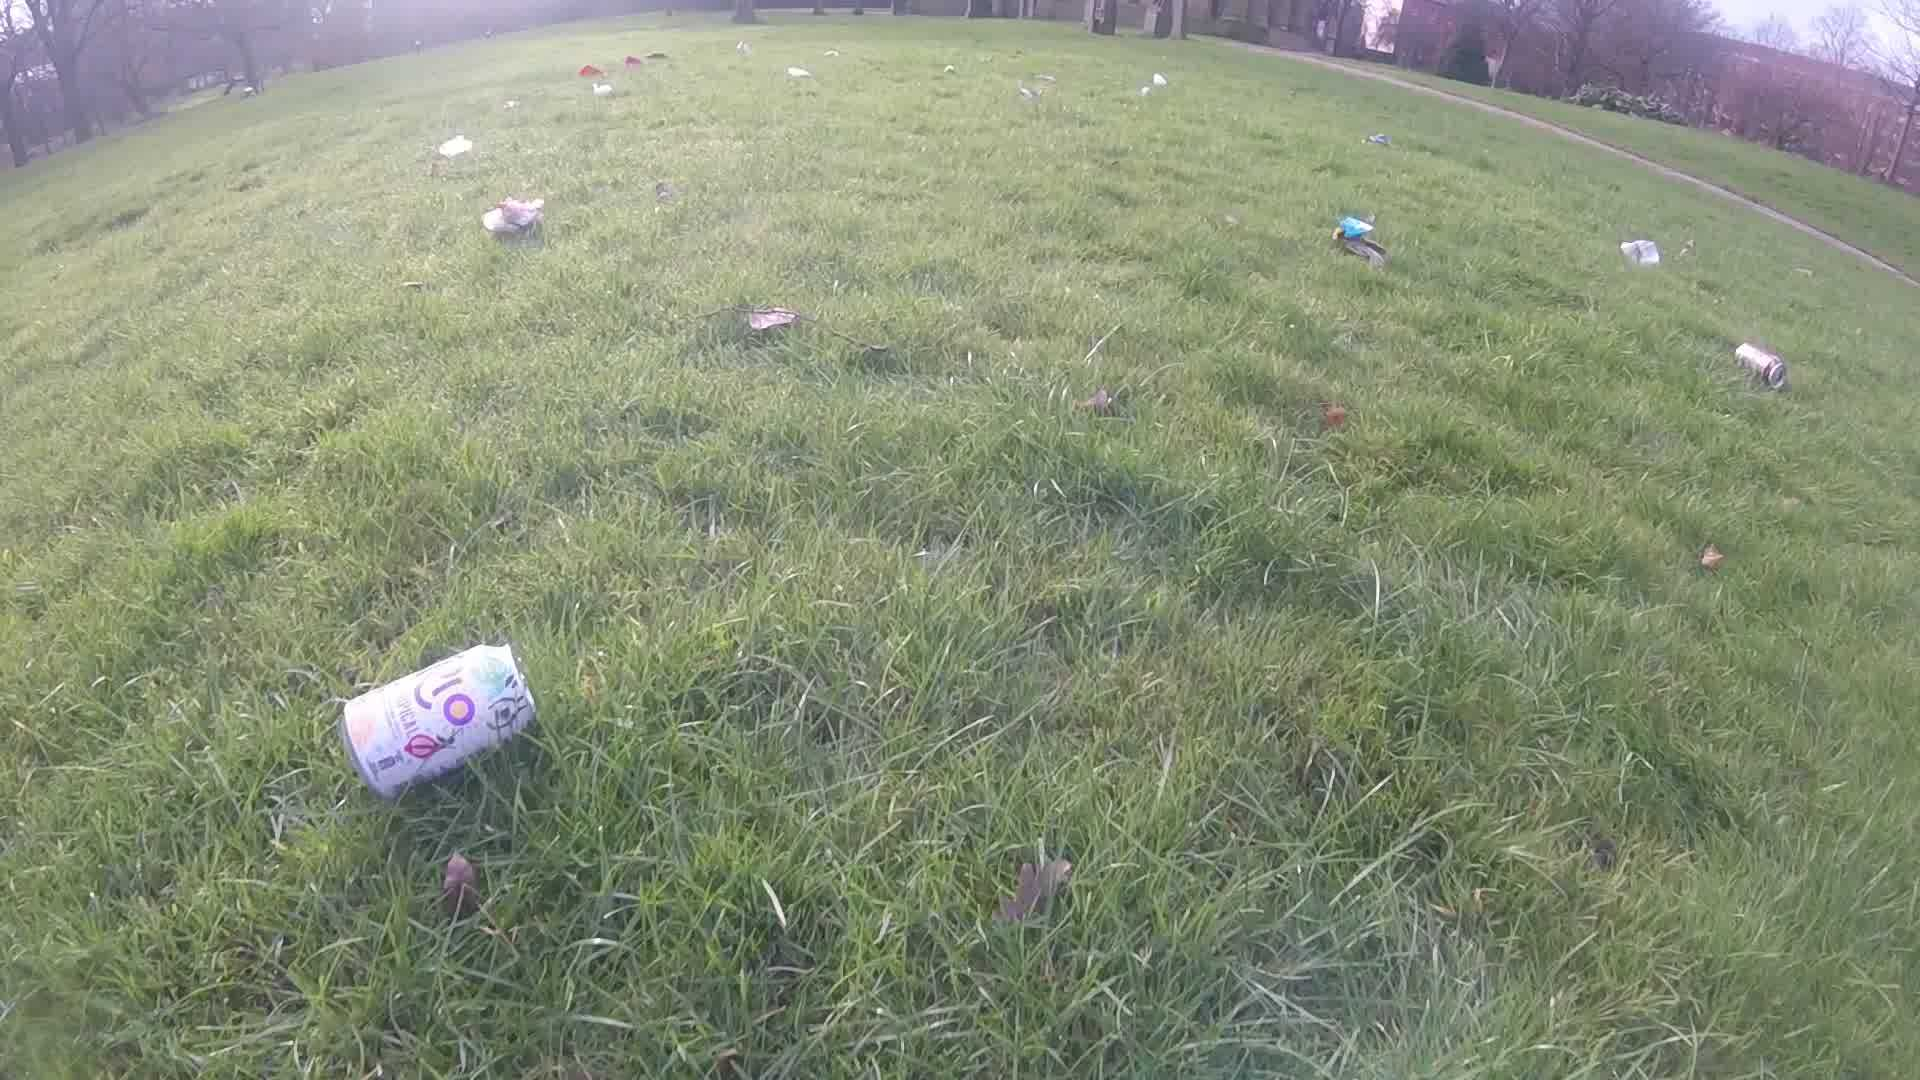litter: (338, 640, 534, 795), (1328, 219, 1387, 266), (1733, 339, 1788, 386), (480, 195, 545, 231), (1617, 239, 1659, 270), (436, 135, 473, 156), (571, 63, 604, 76), (1364, 131, 1390, 146), (620, 54, 644, 69), (1150, 71, 1168, 88), (587, 80, 611, 94), (1015, 87, 1036, 102), (787, 67, 808, 80), (498, 98, 520, 109), (642, 51, 669, 61), (822, 47, 841, 57), (1139, 84, 1153, 98), (942, 61, 953, 75), (735, 40, 746, 51)
